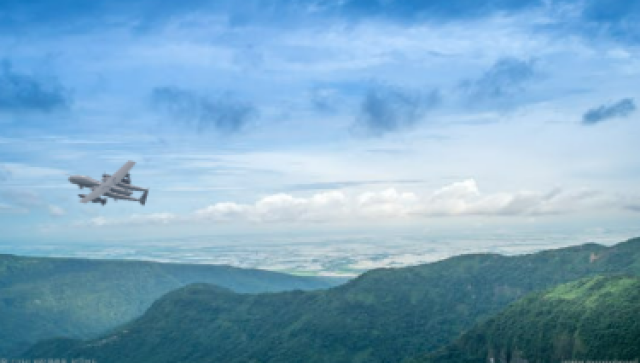military drone: (63, 160, 150, 206)
